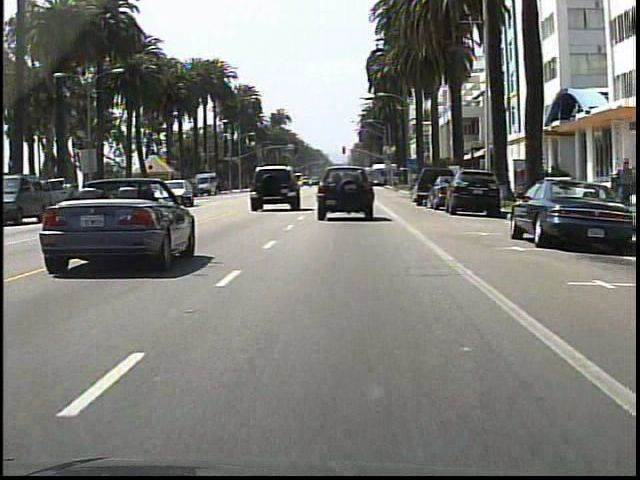person: (612, 155, 635, 215)
